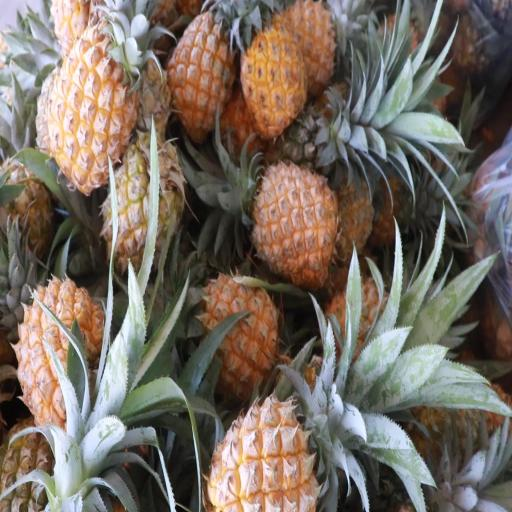------------------------------: (104, 134, 181, 263)
Pineapple - v8 v1: (209, 387, 319, 512), (52, 34, 138, 192), (22, 282, 106, 436), (252, 163, 338, 277), (198, 273, 280, 384), (169, 15, 239, 137), (243, 24, 310, 132)
